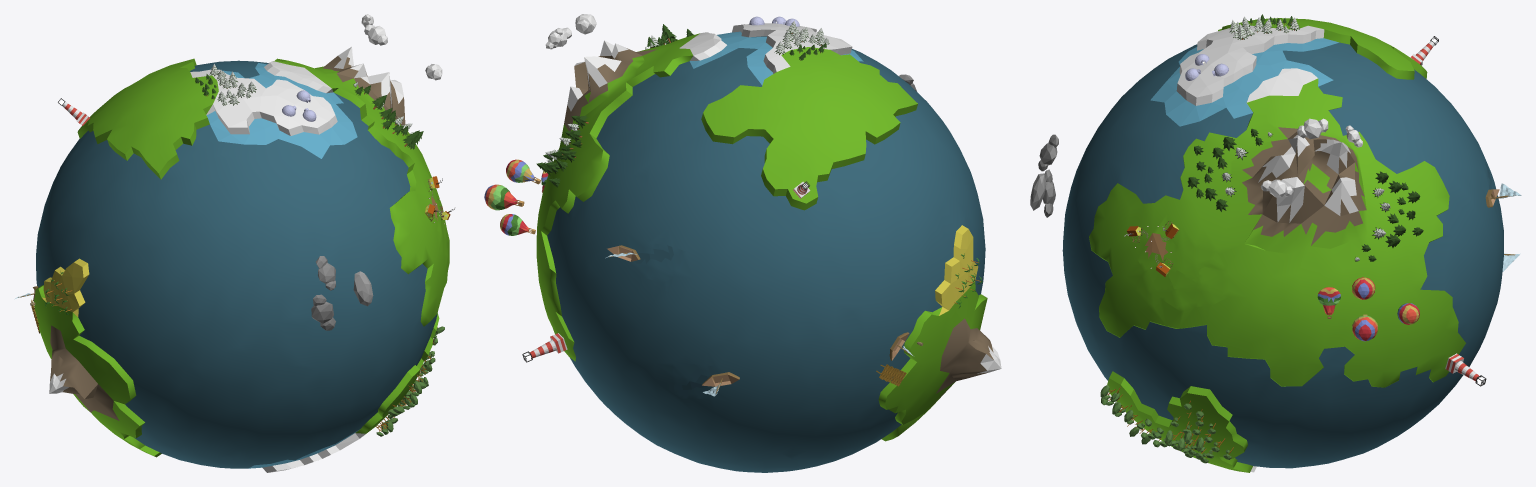
Rendered from lowPolPlanet.glb.
3 views of the same model, side by side, from view 1: azimuth 30°, elevation 25°; view 2: azimuth 150°, elevation 25°; view 3: azimuth 270°, elevation 25° (orthographic). The views are drawn at different scales.
Parts seen in each view (by area): view 1: Sphere, Icosphere.004, Sphere.111, Icosphere.002; view 2: Sphere, Sphere.004; view 3: Sphere, Sphere.004.
Boxes of the visible parts, box(x1,y1,x2,y2) form: Sphere: box(33, 46, 449, 472); Icosphere.004: box(311, 294, 335, 330); Sphere.111: box(353, 271, 373, 306); Icosphere.002: box(315, 256, 335, 290); Sphere: box(536, 23, 1001, 472); Sphere.004: box(484, 184, 517, 210); Sphere: box(1062, 18, 1503, 472); Sphere.004: box(1352, 315, 1377, 341).
Size of the model in its own units: 8.25 by 7.22 by 7.67.
